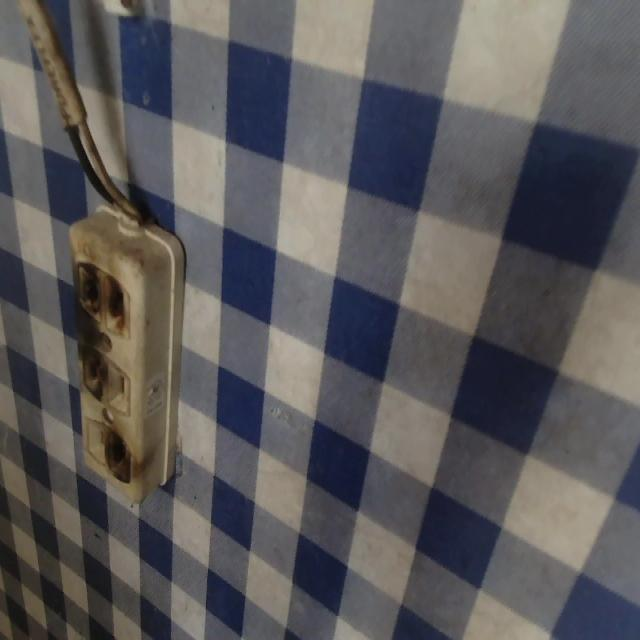-: (73, 259, 128, 328), (106, 426, 134, 486), (77, 346, 106, 402)
